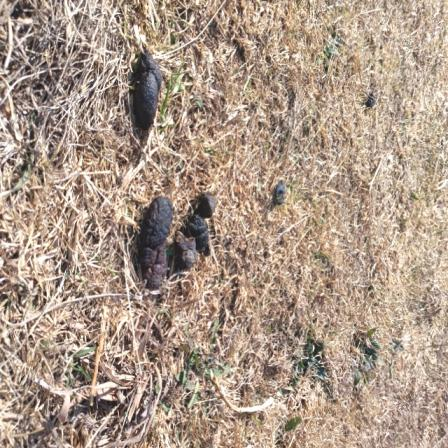dog-poop: (142, 178, 224, 285), (135, 44, 165, 144)
